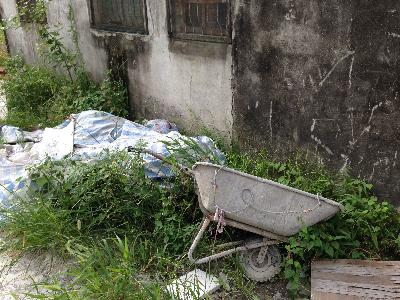plastic_bag: (1, 110, 228, 224)
